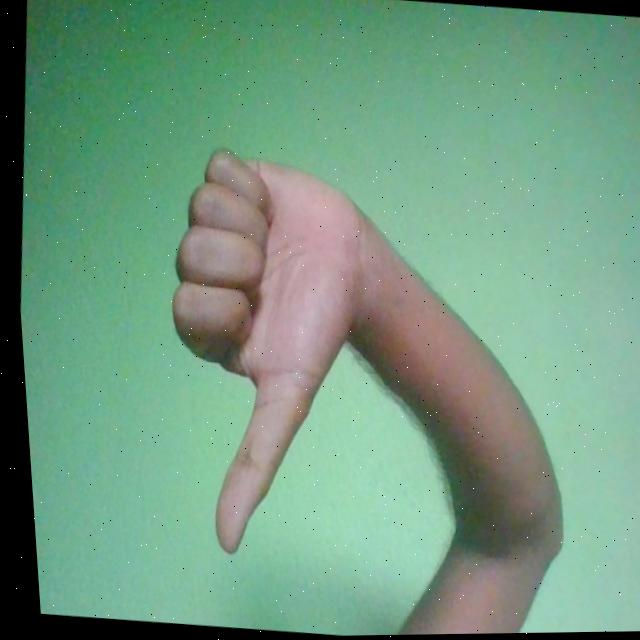Dislike: (138, 143, 391, 566)
